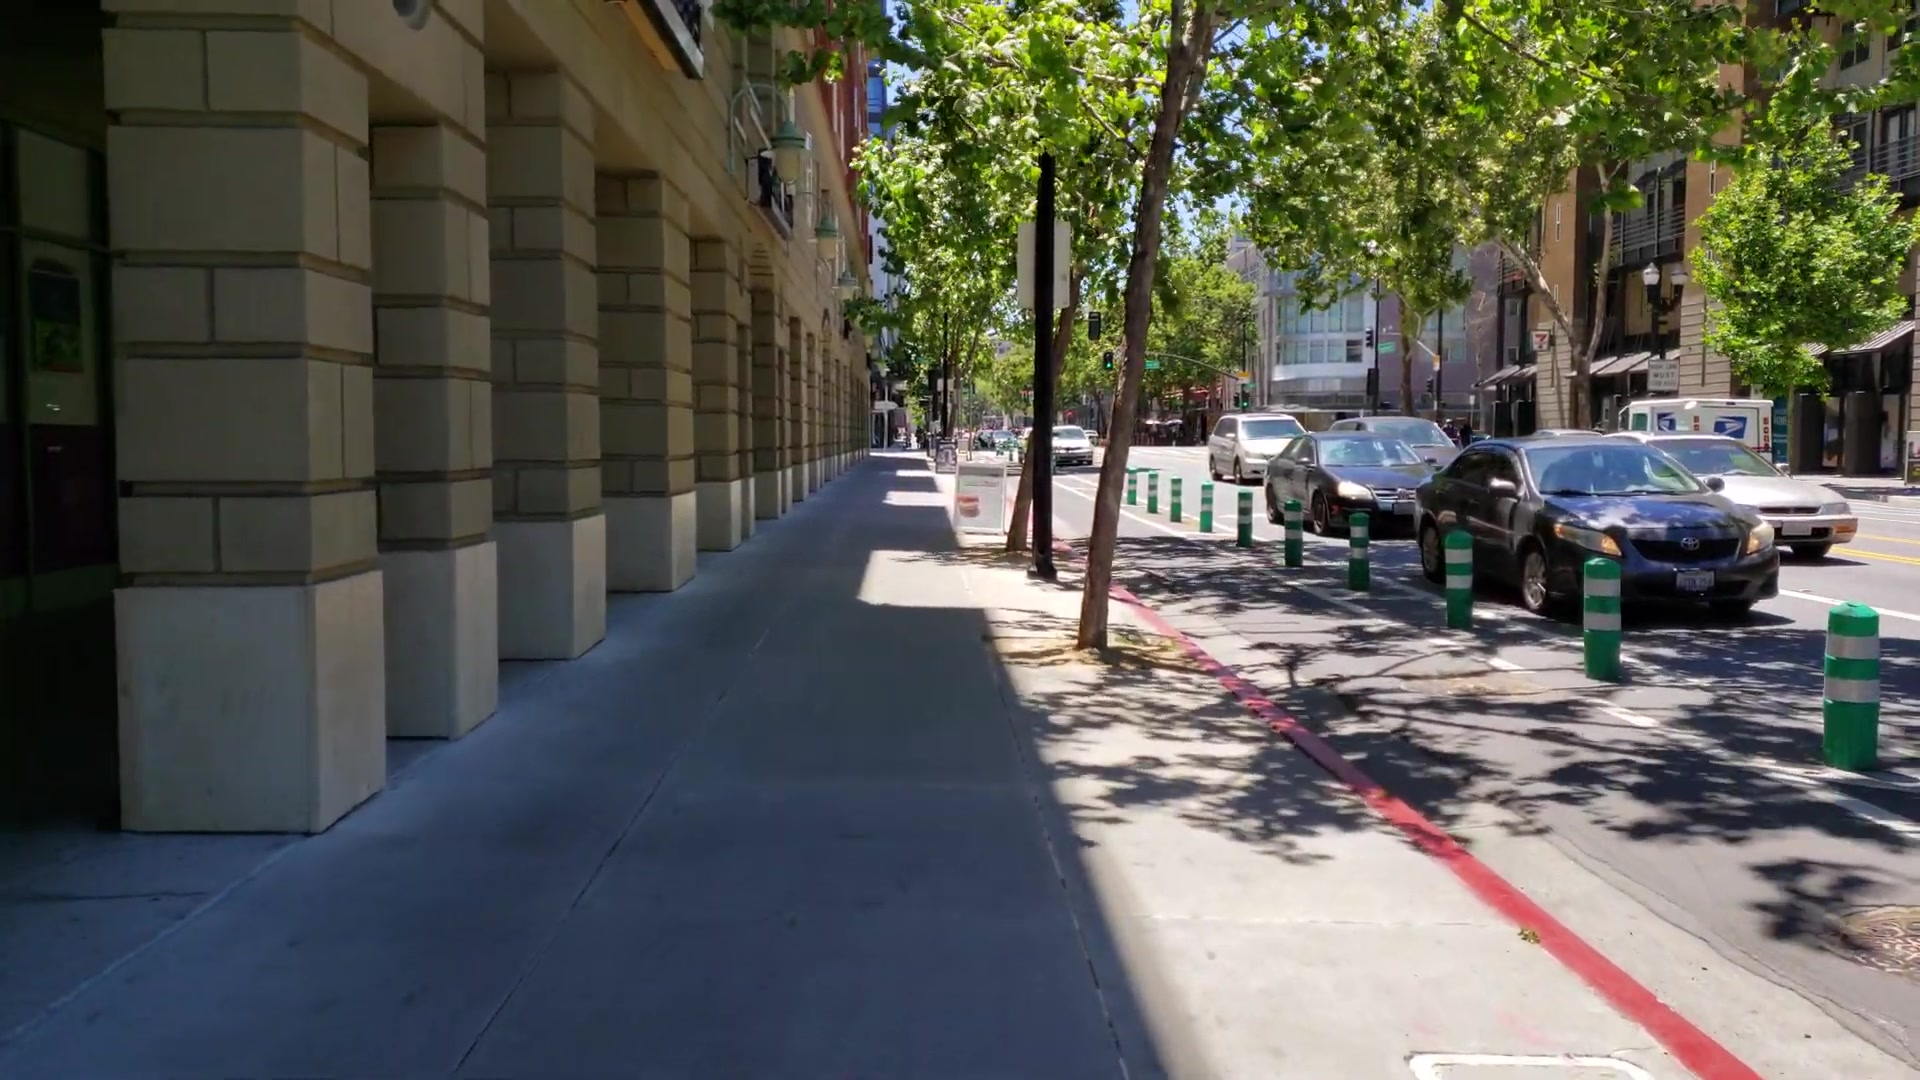vehicle: (1411, 439, 1779, 618), (1269, 435, 1441, 539)
